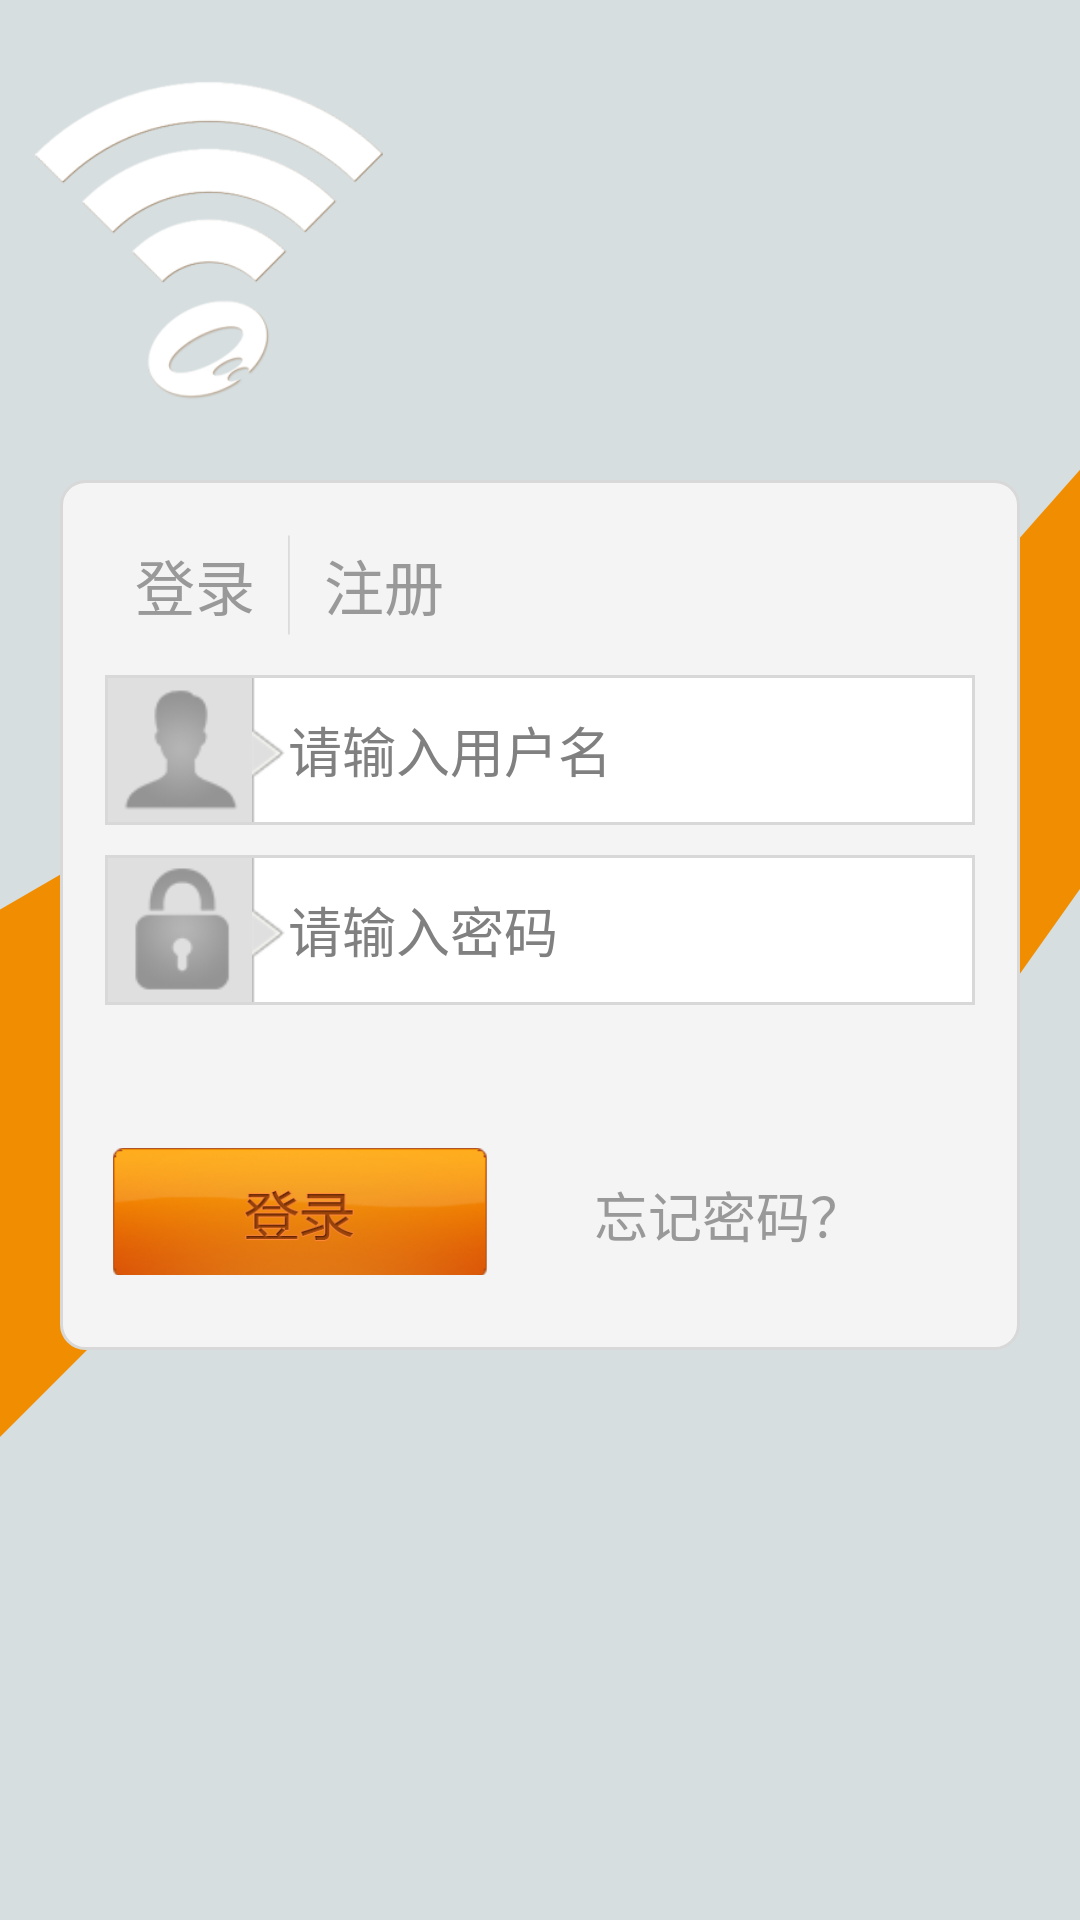

Named icons in this screenshot (1080x1920) and their centers, (x=x, y=y):
login lock: (x=182, y=929)
login name: (x=181, y=749)
